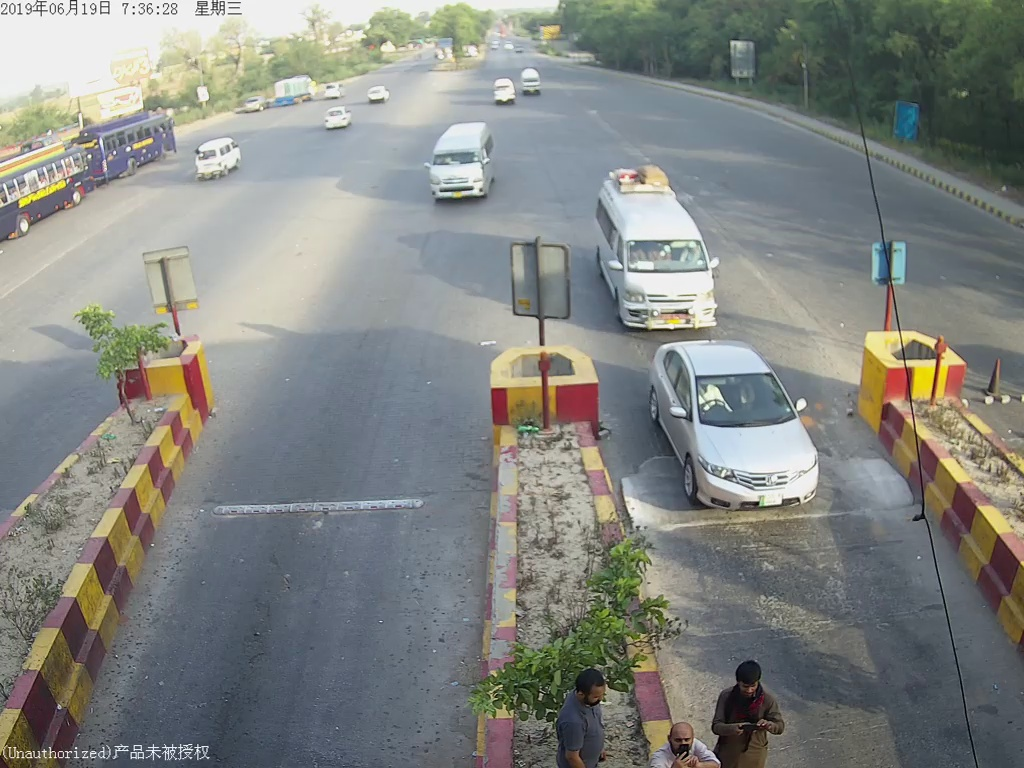Cat-1: (647, 332, 821, 508)
Cat-2: (585, 168, 726, 332), (425, 119, 497, 199)
